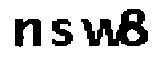8: (120, 7, 150, 48)
n: (11, 14, 45, 50)
s: (49, 17, 75, 48)
w: (79, 16, 121, 50)
